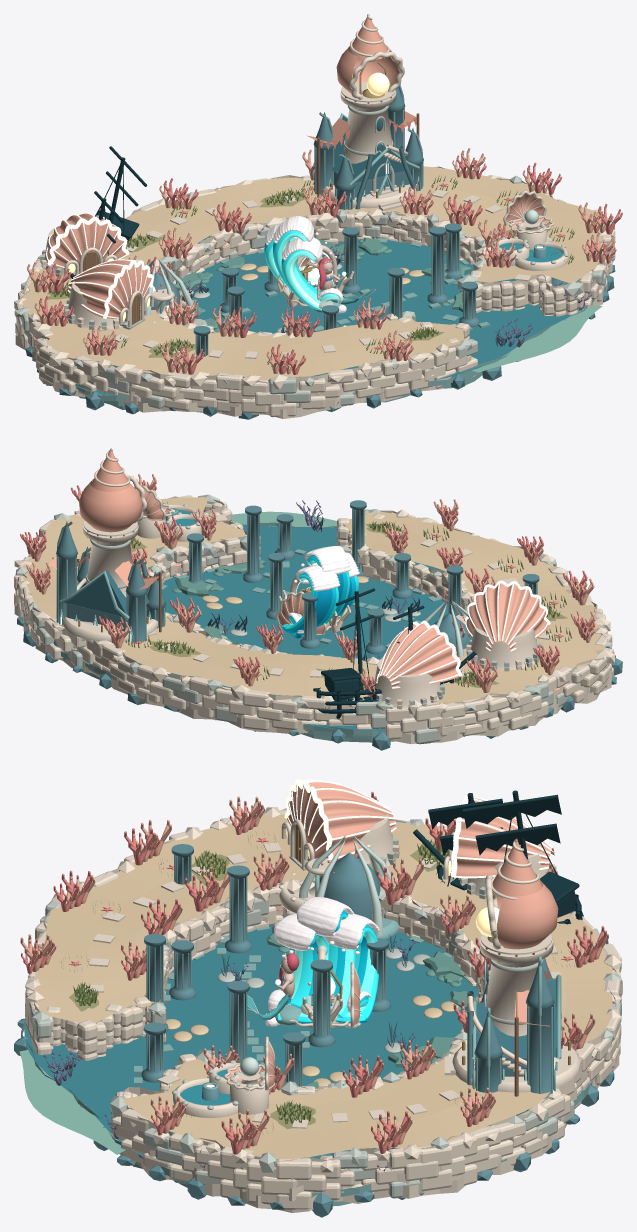
Rendered from ocean.glb.
3 renders of one model, top to bottom at view 1: azimuth 30°, elevation 25°; view 2: azimuth 150°, elevation 25°; view 3: azimuth 270°, elevation 25°, orthographic. The views are drawn at different scales.
Visible parts, largest first — view 1: stage-0, stage-20, stage-0.001, stage-40, stage-100, stage-20.001, stage-100.001, stage-80, ocean-sofa, stage-60.001, stage-40.001, ocean-portal; view 2: stage-0, stage-0.001, stage-40, stage-20, stage-20.001, stage-100, stage-100.001, ocean-sofa, stage-60.001, stage-80, stage-40.001, ocean-pod (+1 smaller); view 3: stage-0, stage-0.001, stage-20, stage-20.001, stage-100, stage-40, ocean-sofa, stage-100.001, stage-60.001, stage-80, stage-40.001, stage-60 (+1 smaller).
Part boxes in pixels (left/top/right/bottom): stage-0: left=14, top=166, right=615, bottom=418; stage-20: left=27, top=148, right=622, bottom=374; stage-0.001: left=25, top=236, right=615, bottom=419; stage-40: left=40, top=213, right=155, bottom=330; stage-100: left=307, top=14, right=419, bottom=211; stage-20.001: left=117, top=223, right=611, bottom=367; stage-100.001: left=313, top=82, right=423, bottom=212; stage-80: left=312, top=190, right=568, bottom=312; ocean-sofa: left=264, top=216, right=346, bottom=313; stage-60.001: left=68, top=146, right=146, bottom=278; stage-40.001: left=144, top=259, right=195, bottom=321; ocean-portal: left=277, top=245, right=354, bottom=306; stage-0: left=14, top=494, right=614, bottom=743; stage-0.001: left=17, top=522, right=622, bottom=750; stage-40: left=370, top=580, right=550, bottom=709; stage-20: left=20, top=474, right=595, bottom=720; stage-20.001: left=187, top=500, right=558, bottom=660; stage-100: left=49, top=448, right=161, bottom=642; stage-100.001: left=53, top=521, right=166, bottom=661; ocean-sofa: left=282, top=546, right=359, bottom=638; stage-60.001: left=313, top=588, right=476, bottom=721; stage-80: left=134, top=485, right=201, bottom=541; stage-40.001: left=423, top=600, right=472, bottom=657; ocean-pod: left=276, top=591, right=340, bottom=634; stage-0: left=19, top=807, right=622, bottom=1212; stage-0.001: left=14, top=883, right=614, bottom=1217; stage-20: left=20, top=791, right=608, bottom=1157; stage-20.001: left=43, top=844, right=491, bottom=1171; stage-100: left=444, top=838, right=580, bottom=1096; stage-40: left=281, top=779, right=557, bottom=899; ocean-sofa: left=265, top=897, right=379, bottom=1028; stage-100.001: left=467, top=956, right=561, bottom=1126; stage-60.001: left=413, top=790, right=583, bottom=924; stage-80: left=172, top=953, right=301, bottom=1117; stage-40.001: left=299, top=835, right=399, bottom=939; stage-60: left=272, top=858, right=331, bottom=932.
Bounding box in the file's own units: 30.72 × 11.39 × 21.9.
